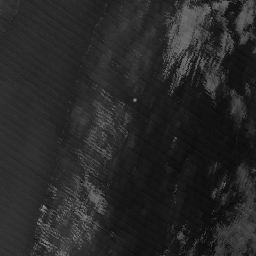Target: (131, 96, 137, 103)
